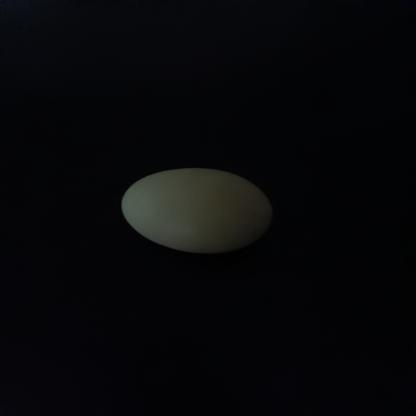egg: (116, 153, 280, 261)
